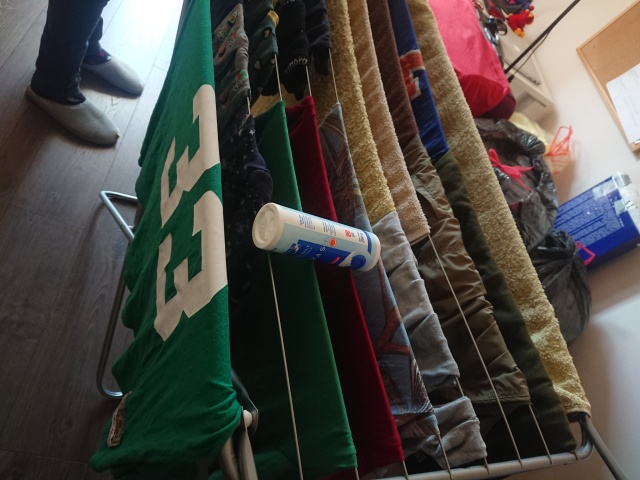Solana Pag Fine Sea Salt 250g: (247, 200, 383, 274)
